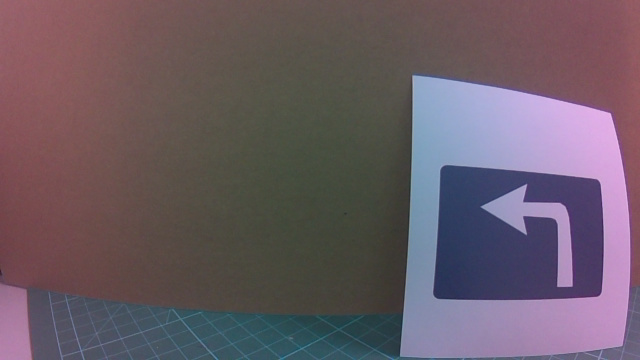left: (421, 155, 617, 315)
